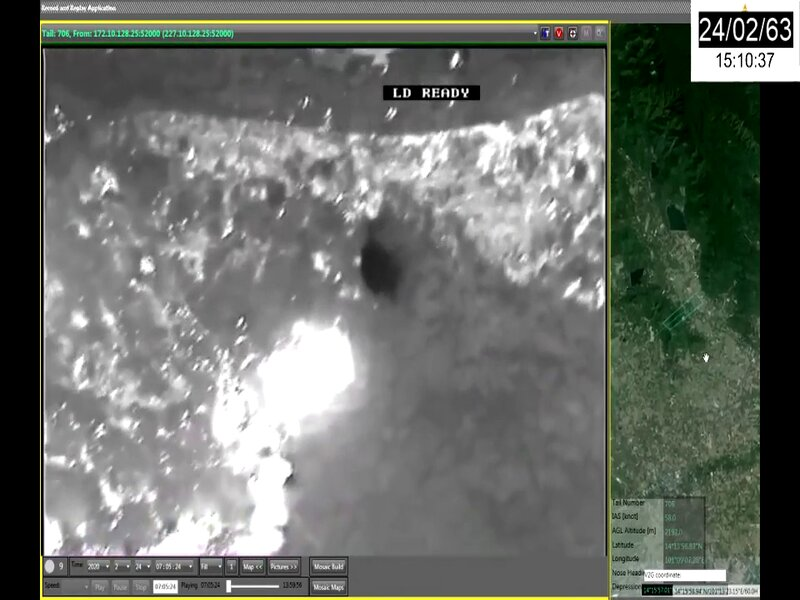Fire: (132, 321, 358, 555)
